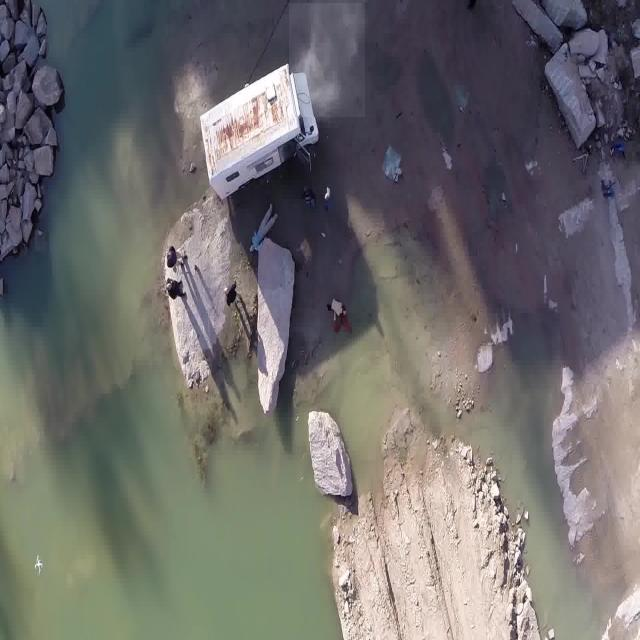Smoke: (290, 3, 366, 117)
